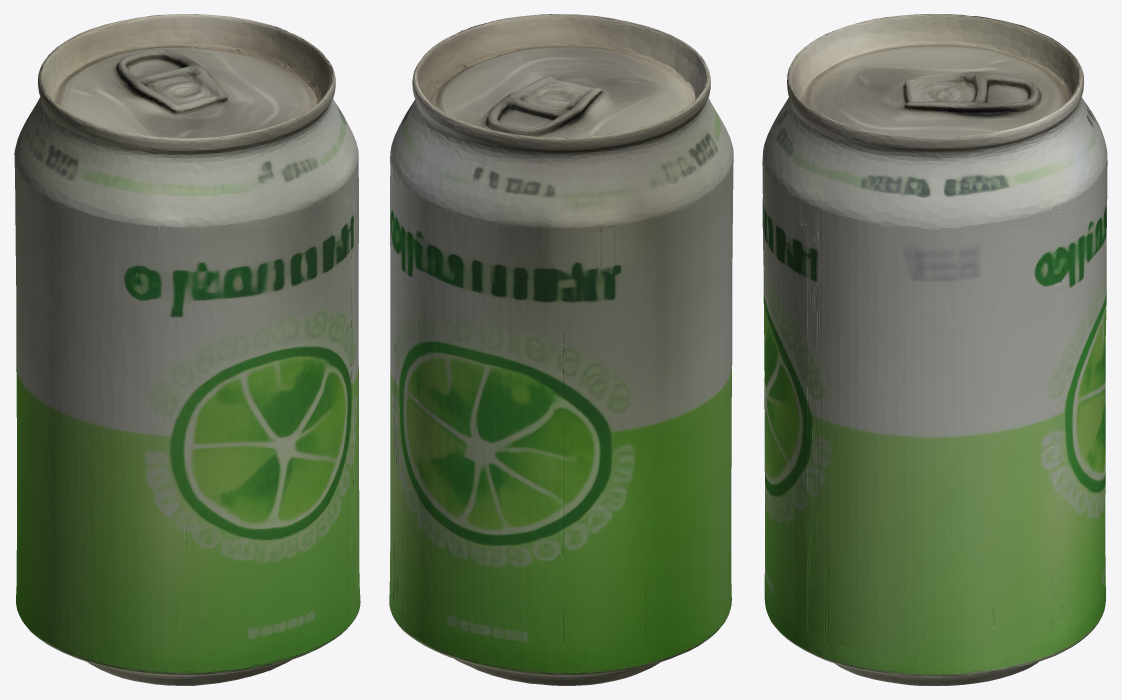
3 renders of one model, left to right at view 1: azimuth 30°, elevation 25°; view 2: azimuth 150°, elevation 25°; view 3: azimuth 270°, elevation 25°, orthographic.
Visible parts, largest first — view 1: world; view 2: world; view 3: world.
Boxes of the visible parts, left/top/right/bottom form: world: left=14, top=14, right=360, bottom=685; world: left=389, top=14, right=733, bottom=685; world: left=762, top=14, right=1107, bottom=685.
Bounding box in the file's own units: 0.5585 × 0.9984 × 0.5573.
1 material, 1 textured.
